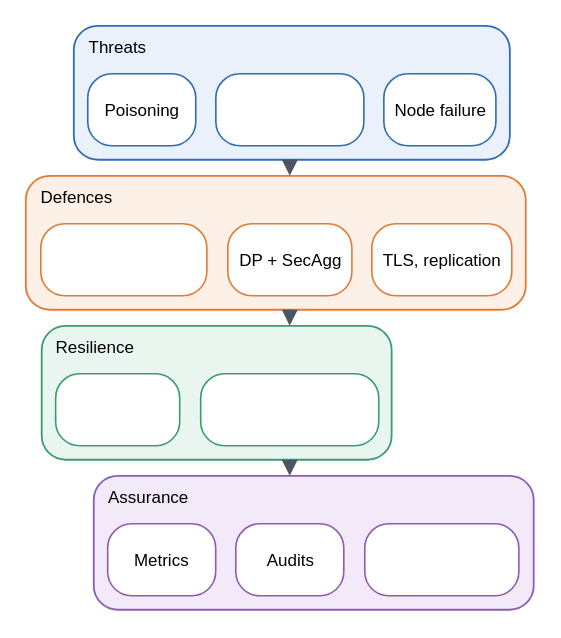
Image size: 561x638. Some labels were removed from this diagram. The shapes that lost their labels are listed below. From the top down, each one's box as (x1, y1, x2, y2) in pixels, then its label:
(214, 72, 364, 146): Inference attacks
(39, 222, 207, 296): Robust aggregation
(54, 372, 180, 446): Local fallback
(199, 372, 379, 446): Graceful degradation
(363, 522, 519, 596): Incident response
